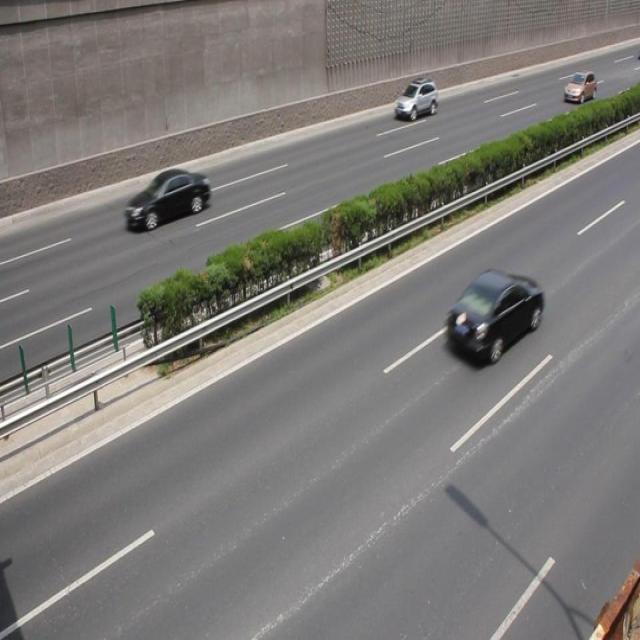car: (447, 266, 541, 360), (124, 166, 210, 229), (393, 76, 436, 122), (562, 70, 595, 105)
